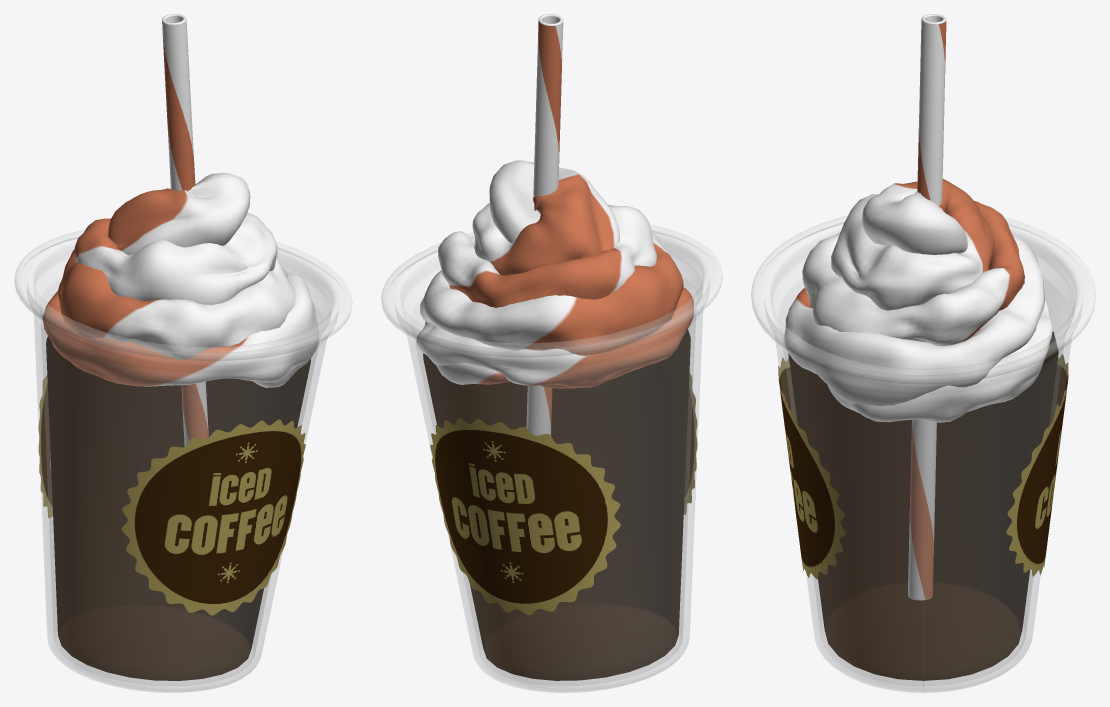
File: Coffee.glb
3 views of the same model, side by side, from view 1: azimuth 30°, elevation 25°; view 2: azimuth 150°, elevation 25°; view 3: azimuth 270°, elevation 25° (orthographic).
Parts seen in each view (by area): view 1: Cylinder.013, NurbsPath.001, NurbsPath.002, Cylinder.011, Cylinder.012, Cylinder.014; view 2: Cylinder.013, NurbsPath.001, NurbsPath.002, Cylinder.014, Cylinder.012, Cylinder.011; view 3: Cylinder.013, NurbsPath.002, NurbsPath.001, Cylinder.012, Cylinder.011, Cylinder.014.
Boxes of the visible parts, x1,y1,x2,y2 form: Cylinder.013: [14, 230, 352, 692]; NurbsPath.001: [42, 172, 318, 387]; NurbsPath.002: [46, 336, 310, 680]; Cylinder.011: [121, 419, 305, 615]; Cylinder.012: [162, 14, 208, 446]; Cylinder.014: [38, 375, 52, 518]; Cylinder.013: [381, 225, 722, 692]; NurbsPath.001: [416, 160, 694, 388]; NurbsPath.002: [423, 329, 690, 680]; Cylinder.014: [430, 418, 620, 615]; Cylinder.012: [526, 14, 563, 435]; Cylinder.011: [683, 373, 697, 514]; Cylinder.013: [751, 216, 1095, 692]; NurbsPath.002: [788, 331, 1058, 680]; NurbsPath.001: [784, 179, 1053, 422]; Cylinder.012: [908, 14, 946, 600]; Cylinder.011: [778, 357, 845, 579]; Cylinder.014: [1006, 354, 1068, 576].
Bounding box in the file's own units: 0.2168 × 0.4529 × 0.2175.
5 materials, 3 textured.
